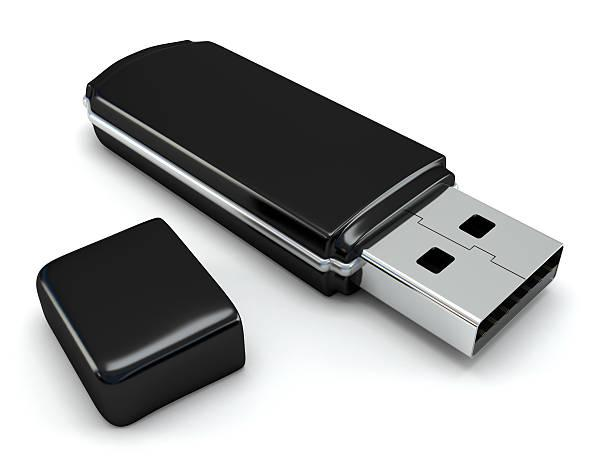USB Flash Drive: (83, 41, 565, 361)
